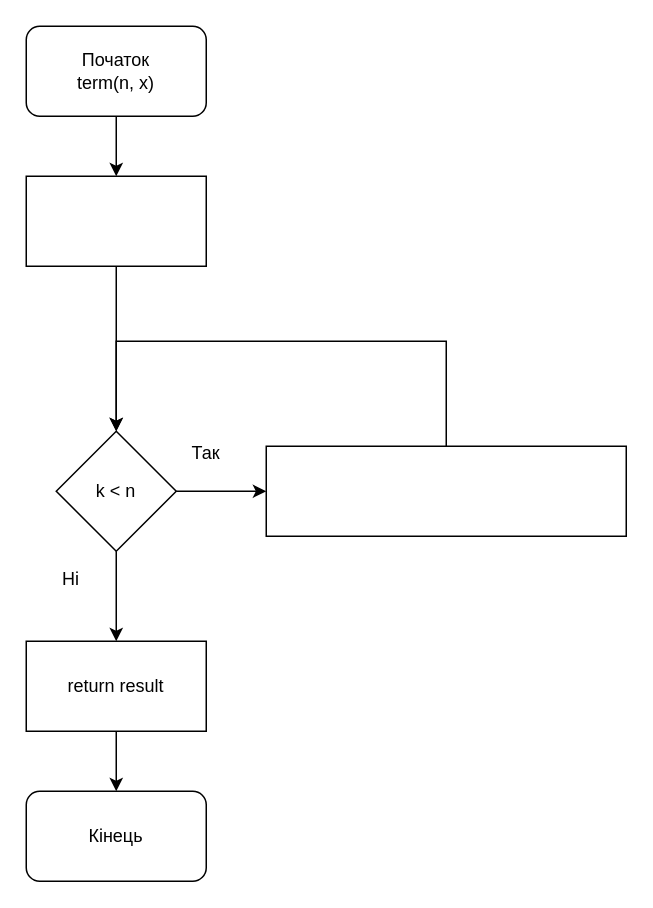
This 653x908 diagram has some shape labels left out. Each missing label, with the centre of its shape:
result := 1.0 k := 1: (115,220)
result := result * ((x * x) / (2k * (2k-1))) k := k + 1: (445,490)
